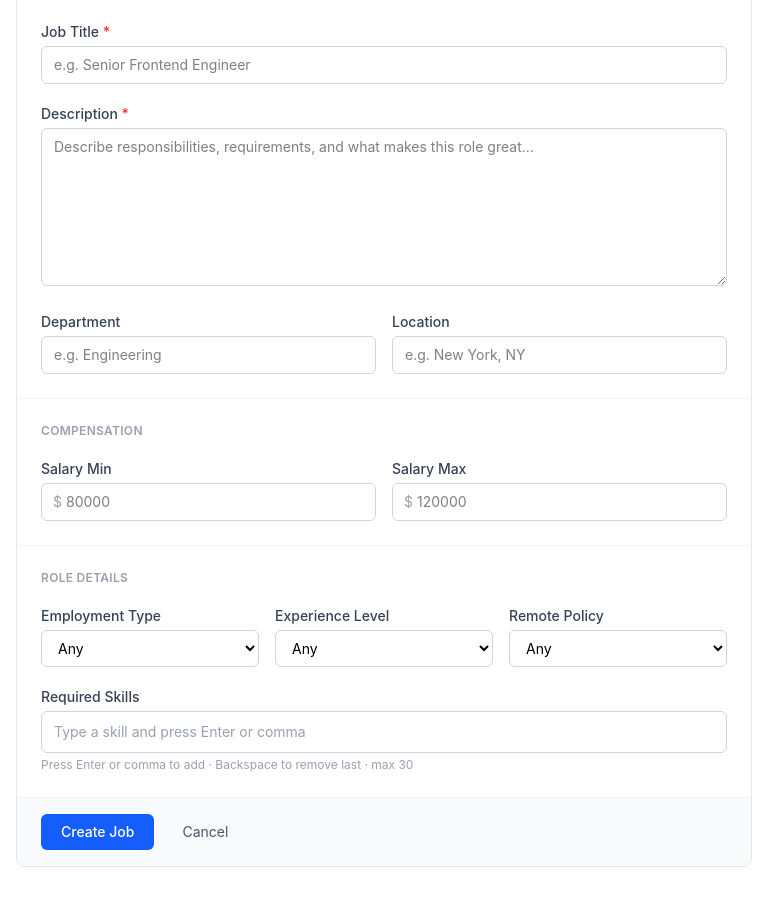
Scenario: JobFormPage — create mode › shows validation errors when required fields are empty
(page scrolled)
Step 1. Click the button "Create Job" → [98, 832], box [41,814,154,850]
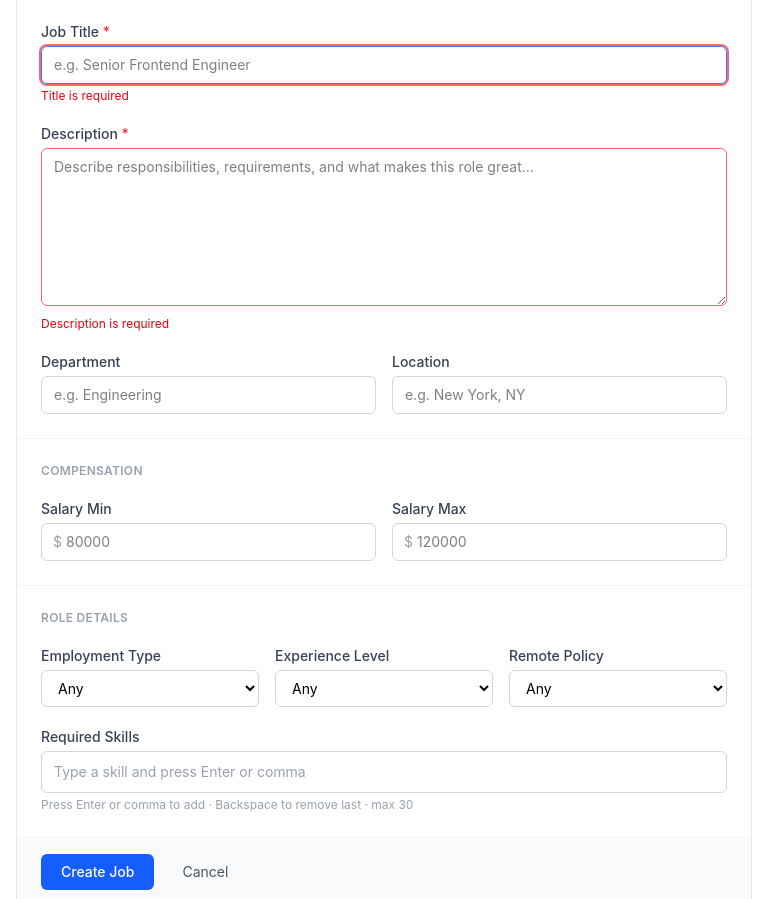
Expected: the text "Title is required" is shown, [41,88,129,103]
Expected: the text "Description is required" is shown, [41,316,169,331]
